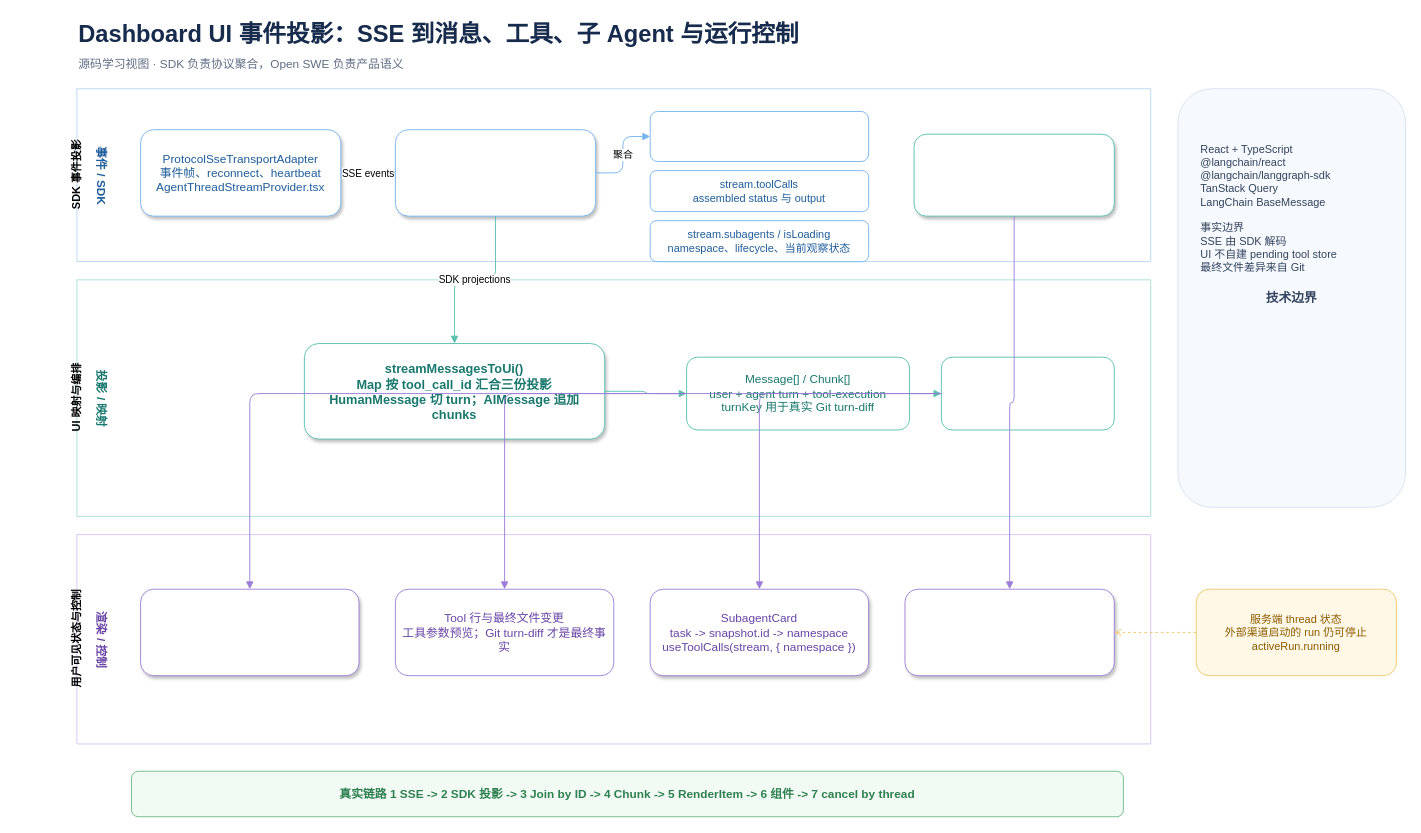
The diagram is 1421 pixels wide and 833 high, and some of its shapes have lost their labels. The centre of each missing label's shape, as x and y in pixels:
"AgentThreadView 选择字段级事实来源 thread.status OR stream.isLoading" goes at [1015,176].
"buildRenderItems() 探索 / 编辑 / shell / 回复 / task 分组" goes at [1027,393].
"ComposerPrimaryActions Send: 两侧均非 busy Stop: server cancel -> disconnect" goes at [1010,633].
"stream.messages 顺序、文本、reasoning、tool call 声明" goes at [759,136].
"StreamProvider 协议事件聚合为响应式 state @langchain/react" goes at [496,173].
"消息与工作日志 Messages -> AgentTurn 流式展开，完成后折叠 Worked" goes at [250,633].
